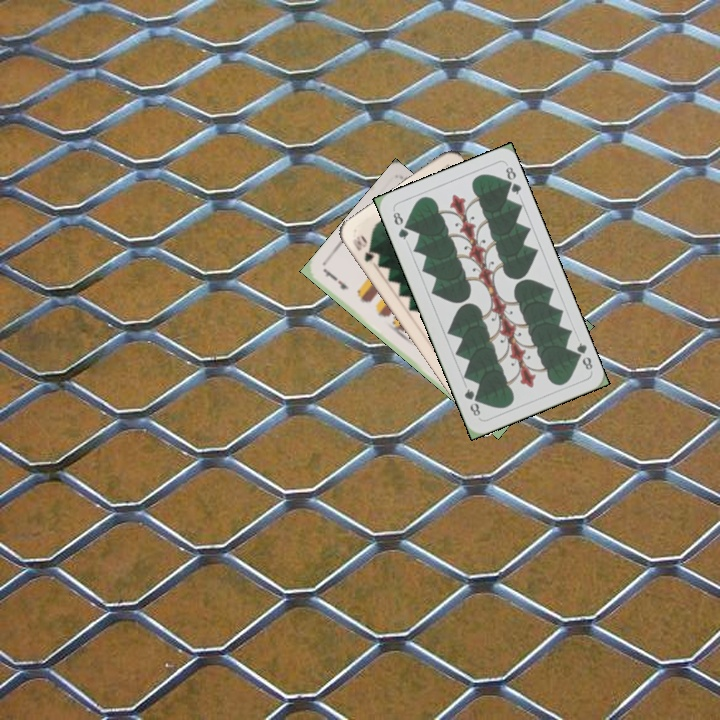E7: (320, 265, 351, 292)
G10: (348, 232, 378, 265)
G8: (570, 338, 595, 373), (389, 206, 411, 242)
